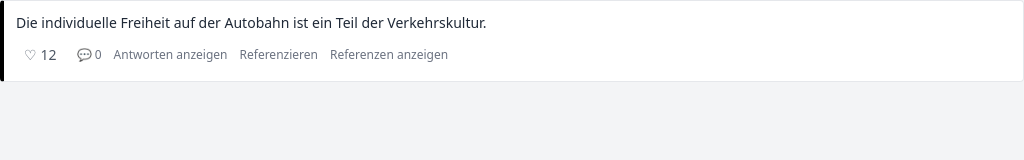
ArgumentNode - Referenzen anzeigen › toggles visibility on repeated clicks without re-fetching once already loaded
Click the button "Referenzen anzeigen" at coordinates (389, 55), box [330,47,448,63]
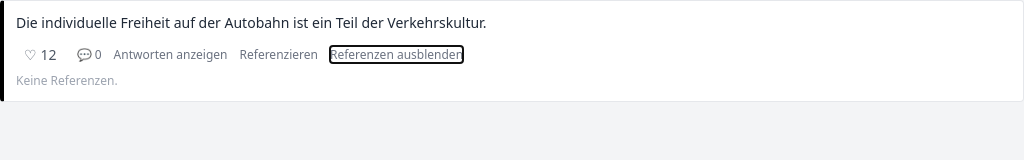
Now the text "Keine Referenzen." is shown, box [16,72,118,89]
Click the button "Referenzen ausblenden" at coordinates (397, 55), box [330,47,463,63]
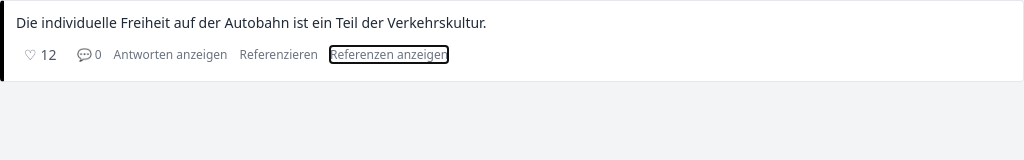
Now the text "Keine Referenzen." is gone
Click the button "Referenzen anzeigen" at coordinates (389, 55), box [330,47,448,63]
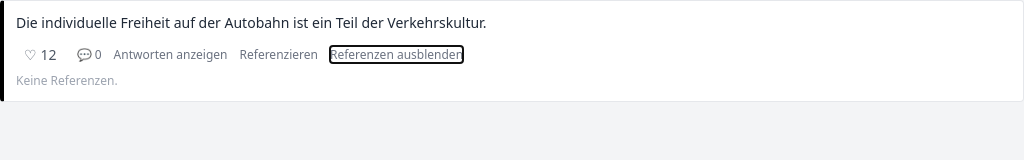
Now the text "Keine Referenzen." is shown, box [16,72,118,89]
